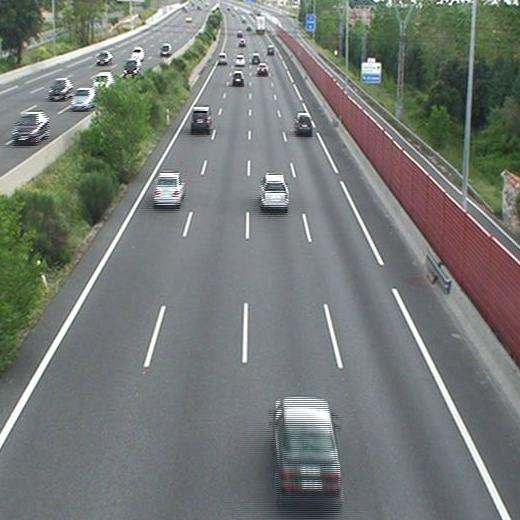car: (271, 397, 340, 493), (259, 175, 288, 206), (155, 172, 182, 203), (192, 106, 211, 129), (296, 113, 312, 132), (232, 72, 243, 83), (234, 55, 245, 66), (257, 63, 267, 74), (218, 53, 227, 63), (266, 45, 274, 56), (250, 53, 258, 62)
